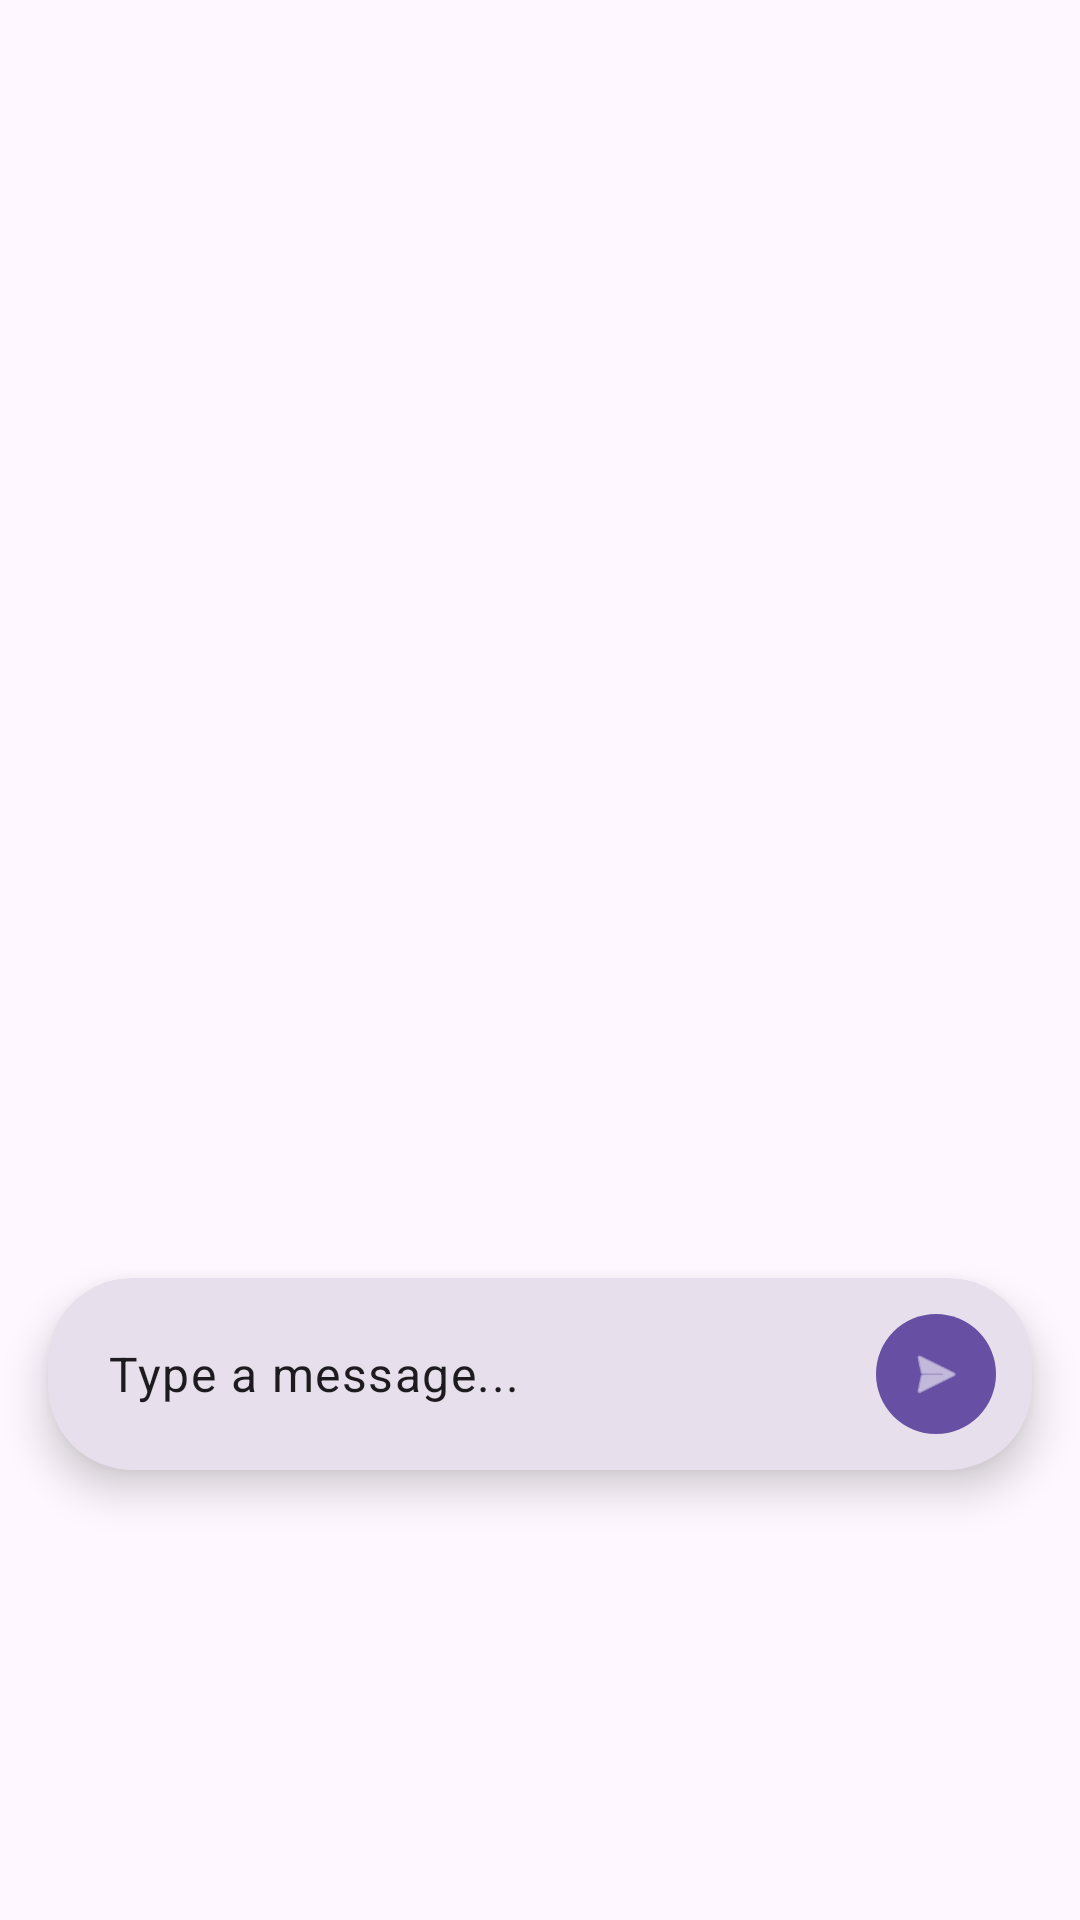

Icons on this 1080×1920 Android screen, each with its box as (x1, y1, x2, y2):
send: (876, 1314, 996, 1434)
